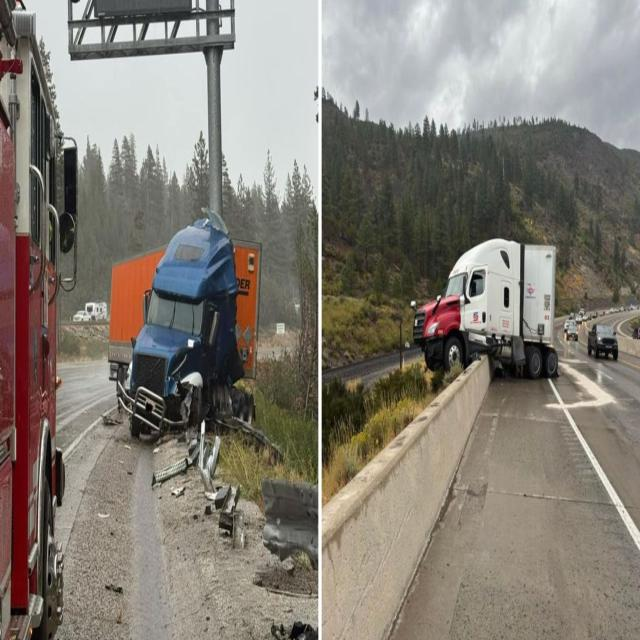Accident: (113, 209, 248, 446), (416, 227, 556, 385)
